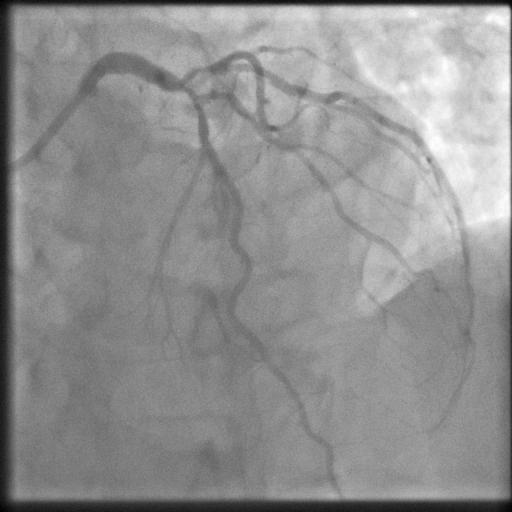Stenosis: (174, 82, 208, 114)
